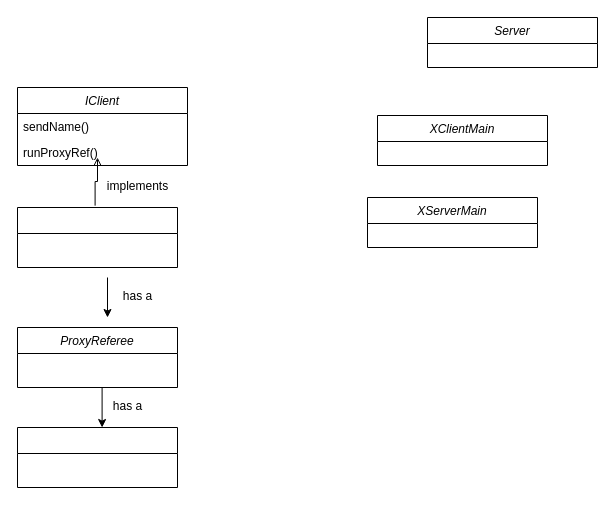
Some shapes in this 615 by 515 pixel diagram are drawn without their labels. Each missing label, with the centre of its shape:
Client: [97,237]
IPlayer: [97,457]
